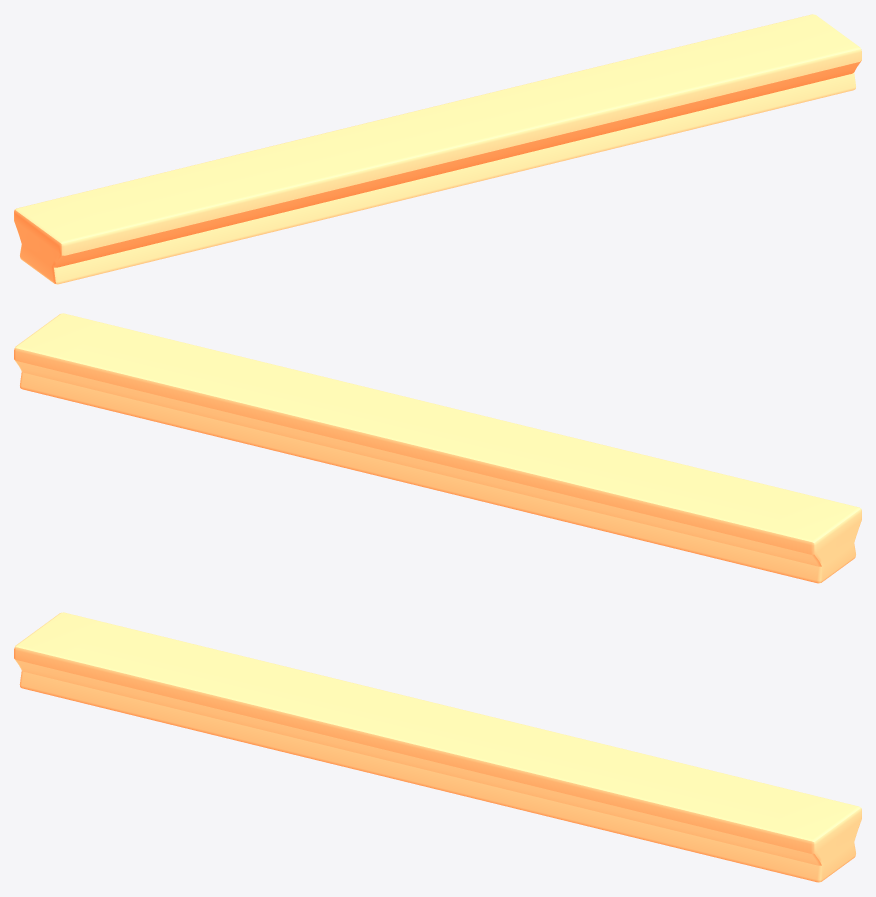
File: SM_Trim_Walls02.fbx
The picture shows the model from 3 angles, top to bottom: view 1: azimuth 30°, elevation 25°; view 2: azimuth 150°, elevation 25°; view 3: azimuth 330°, elevation 25°; orthographic projection.
Visible parts, largest first — view 1: SM_Trim_Walls02_LOD0; view 2: SM_Trim_Walls02_LOD0; view 3: SM_Trim_Walls02_LOD0.
Part boxes in pixels (box(x1,y1,x2,y2)): SM_Trim_Walls02_LOD0: box(14, 14, 861, 284); SM_Trim_Walls02_LOD0: box(14, 313, 861, 583); SM_Trim_Walls02_LOD0: box(14, 612, 861, 882).
Bounding box in the file's own units: 300 × 31.67 × 16.92.
